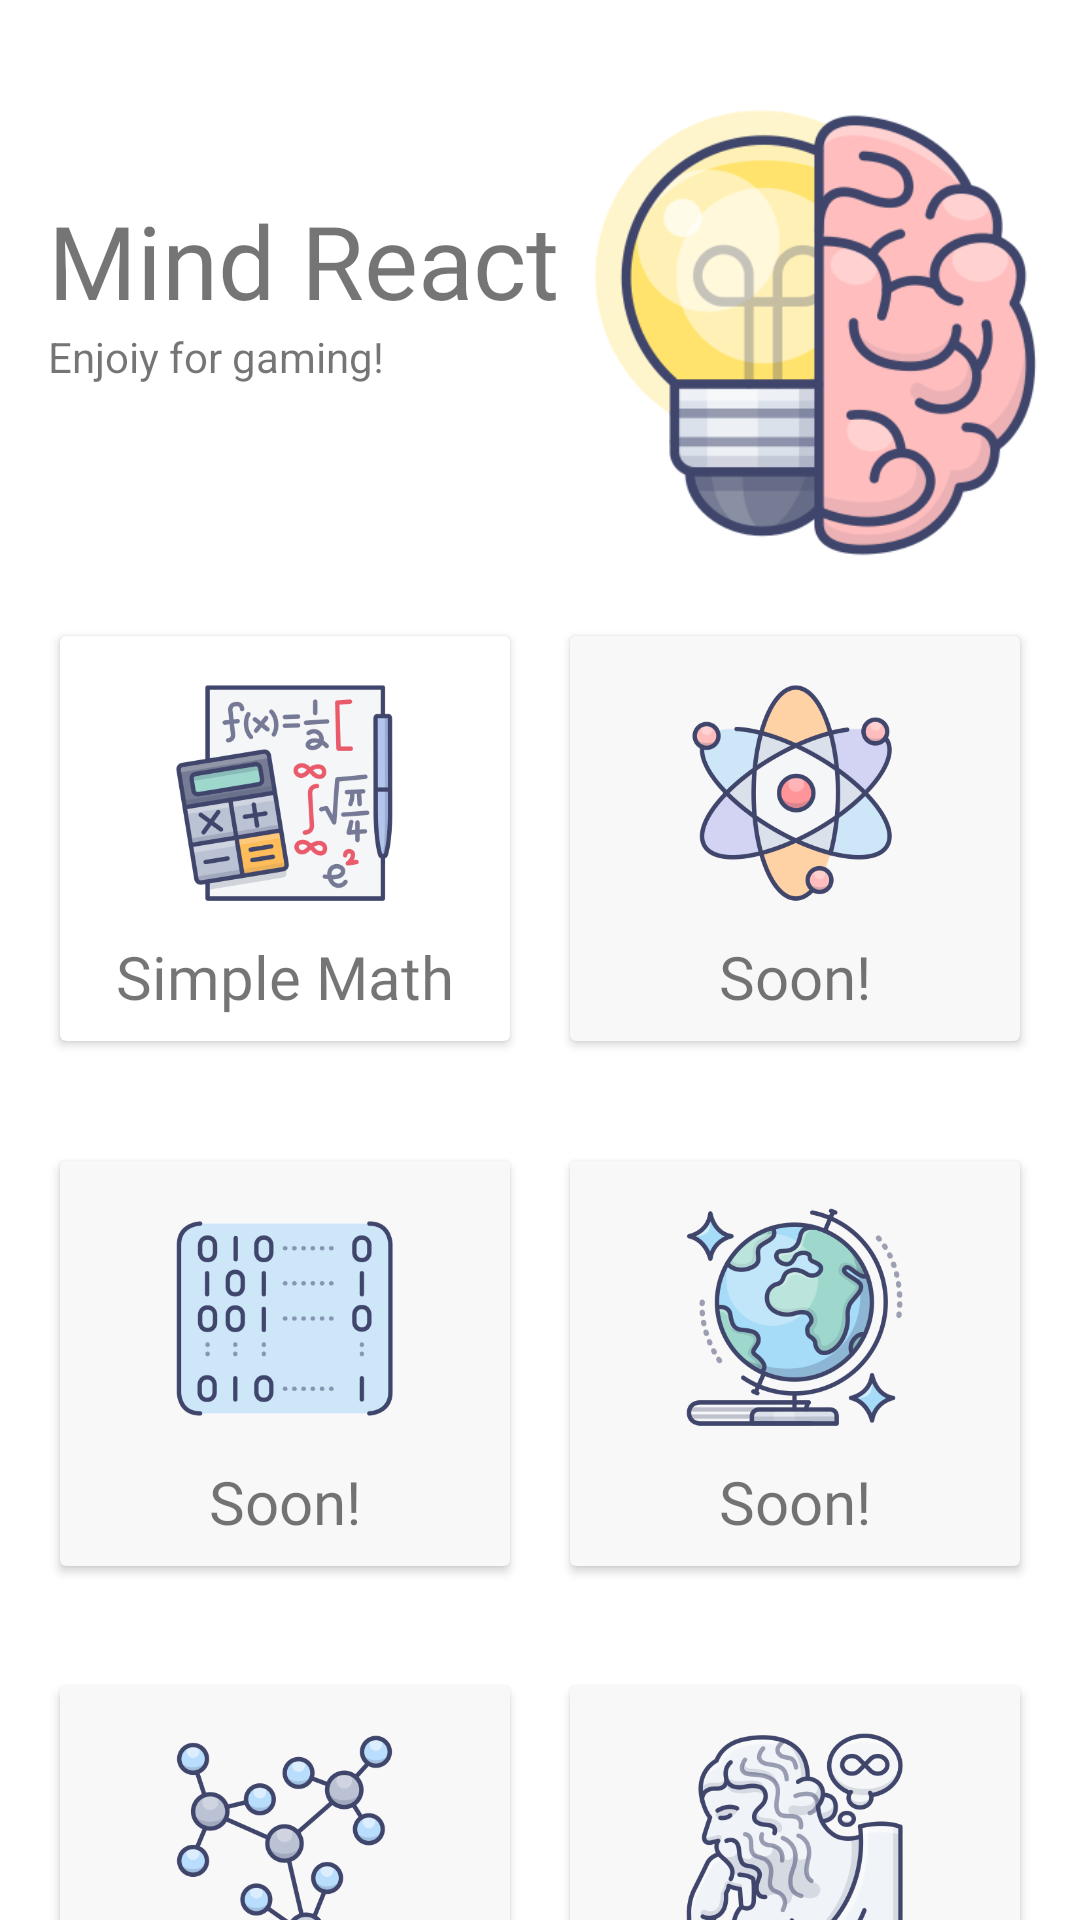

Named icons in this screenshot (1080×1920) and their bounding boxes, [x1, y1, x2, y2]:
binary: [176, 1221, 393, 1416]
earth: [686, 1208, 903, 1426]
phys: [692, 685, 892, 901]
